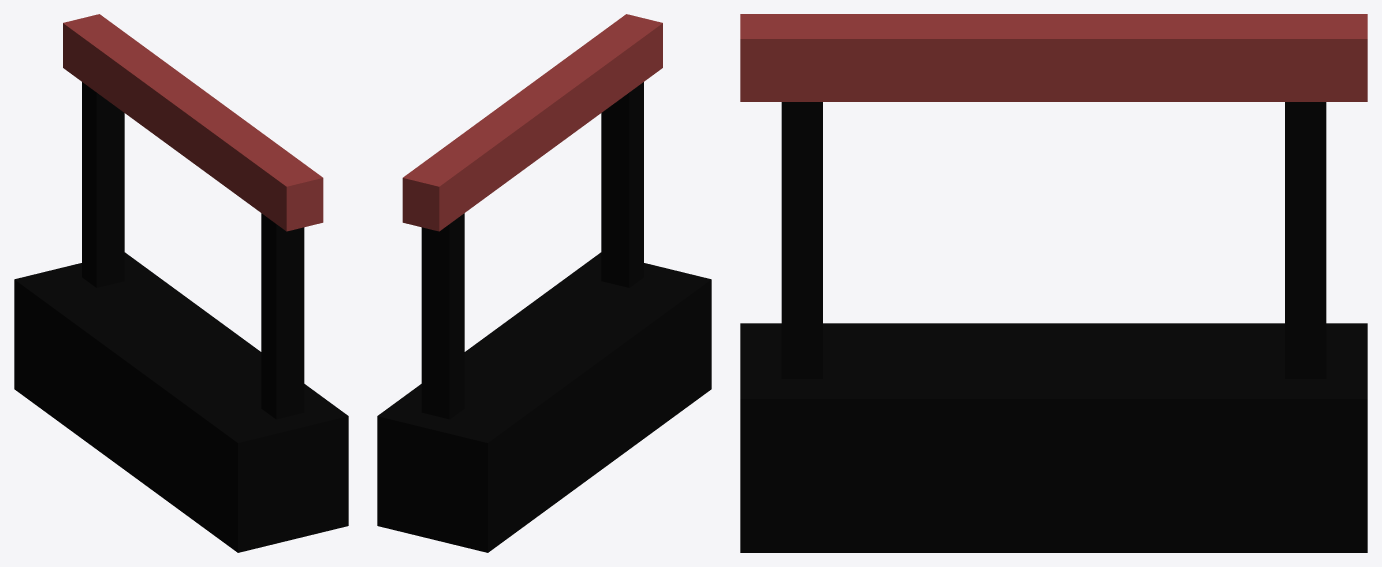
The model's file is BreakerPrt2.glb.
3 renders of one model, left to right at view 1: azimuth 30°, elevation 25°; view 2: azimuth 150°, elevation 25°; view 3: azimuth 270°, elevation 25°, orthographic. The views are drawn at different scales.
Parts seen in each view (by area): view 1: Cube.007, Cube.008, Cube.010, Cube.011; view 2: Cube.007, Cube.008, Cube.011, Cube.010; view 3: Cube.007, Cube.008, Cube.010, Cube.011.
Boxes of the visible parts, x1,y1,x2,y2 form: Cube.007: (14,252,348,552); Cube.008: (63,14,323,231); Cube.010: (261,213,304,419); Cube.011: (82,82,124,287); Cube.007: (377,252,711,552); Cube.008: (402,14,662,231); Cube.011: (421,213,464,419); Cube.010: (601,82,643,287); Cube.007: (740,323,1367,552); Cube.008: (740,14,1367,101); Cube.010: (781,102,822,378); Cube.011: (1285,102,1326,378).
Bounding box in the file's own units: 0.1156 × 0.3536 × 0.4048.
